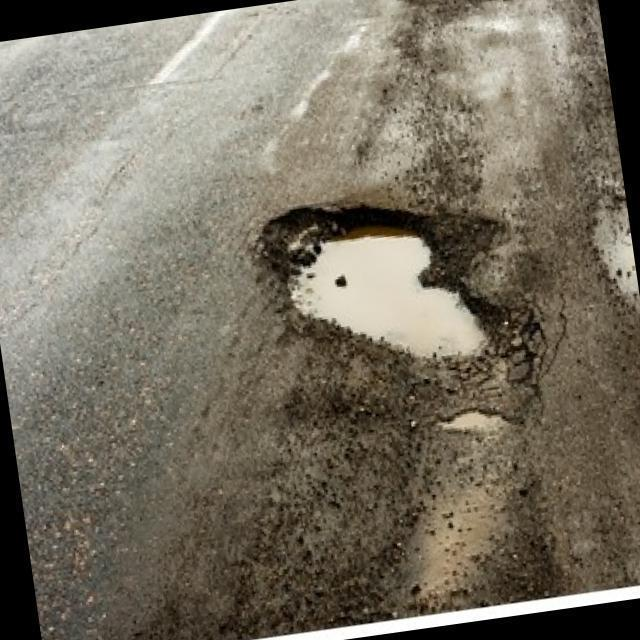pothole: (249, 179, 520, 398)
